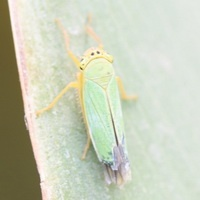insect: (36, 15, 135, 184)
